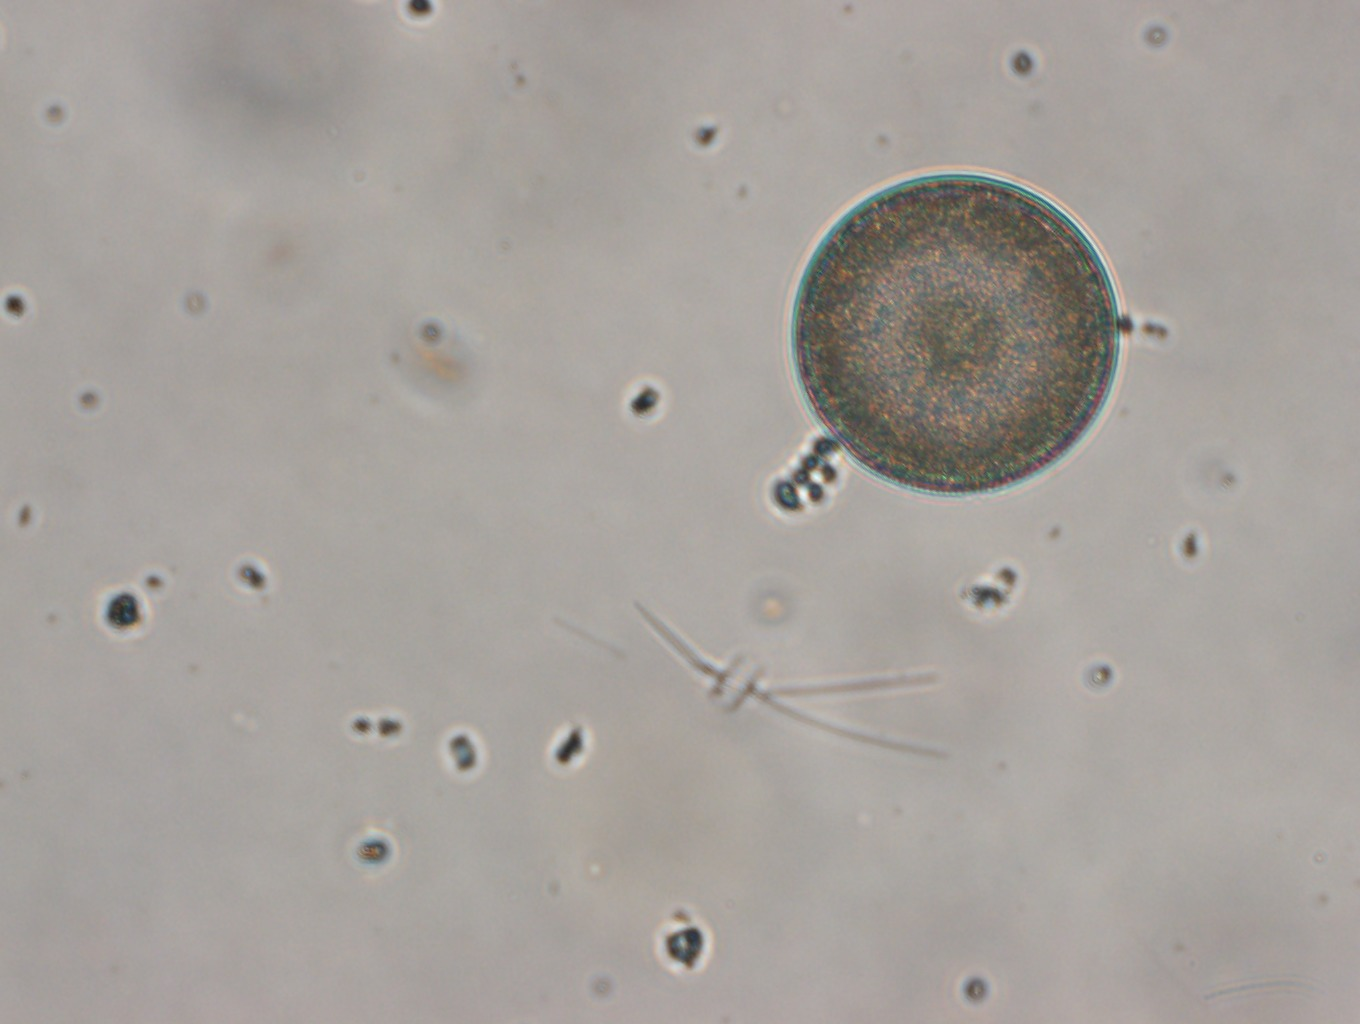coscinodiscus: (781, 163, 1127, 501)
